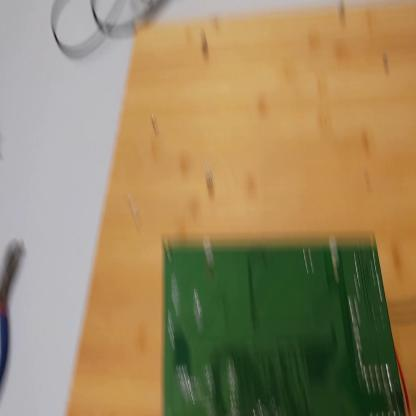low voltage board: (155, 208, 413, 416)
pliers: (1, 235, 24, 390)
working area: (65, 4, 416, 414)
